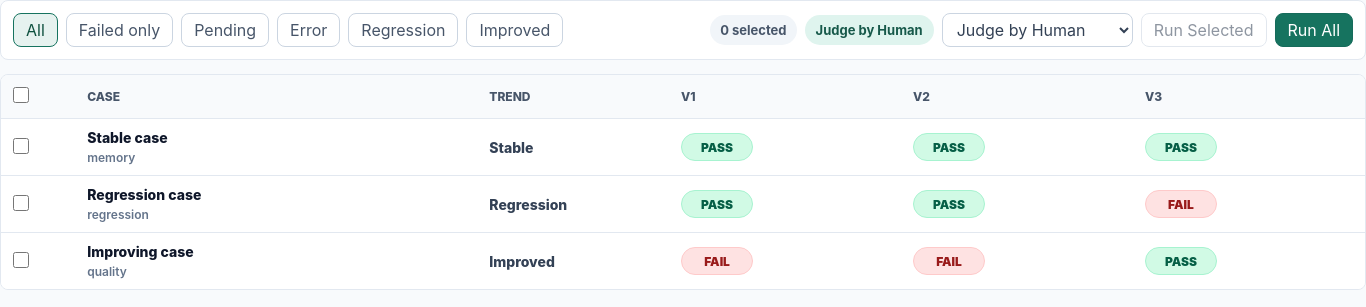
it: VersionMatrix › selects visible cases and updates run controls
Click the checkbox named "Select Stable case" at (21, 146), box [13,138,29,154]
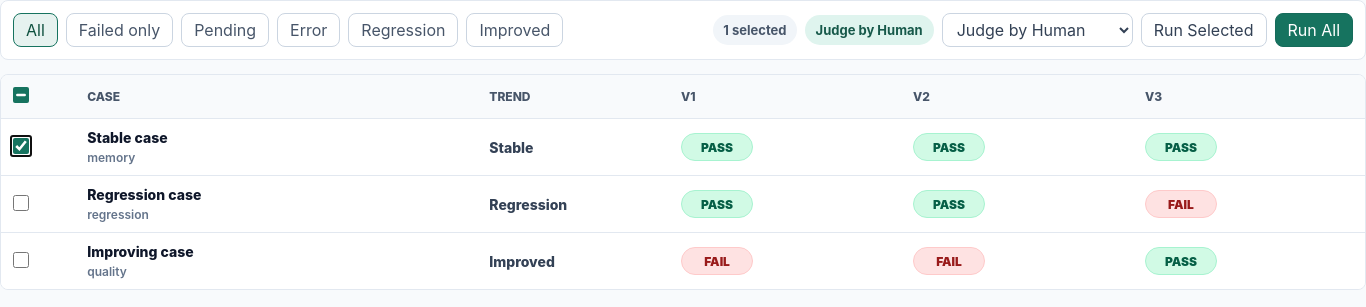
Click the checkbox named "Select Regression case" at (21, 202), box [13,194,29,210]
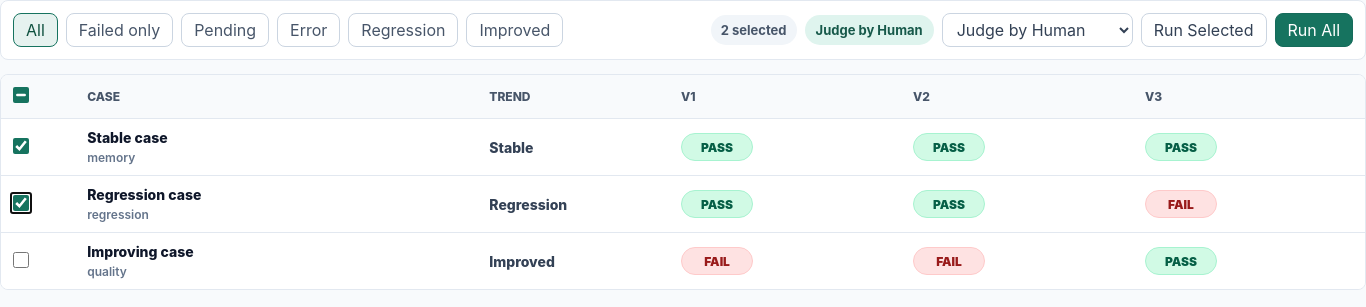
Expected: the button "Run Selected" is enabled, [1141,13,1266,47]
Expected: the text "2 selected" is shown, [711,15,796,45]
Click the checkbox named "Select all visible cases" at (21, 95), box [13,87,29,103]
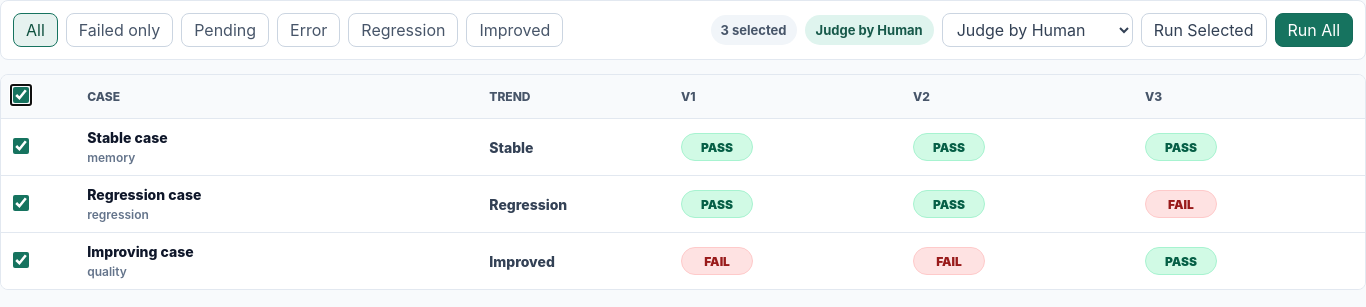
Expected: the checkbox named "Select Stable case" is checked, [13,138,29,154]
Expected: the checkbox named "Select Regression case" is checked, [13,194,29,210]
Expected: the checkbox named "Select Improving case" is checked, [13,252,29,268]
